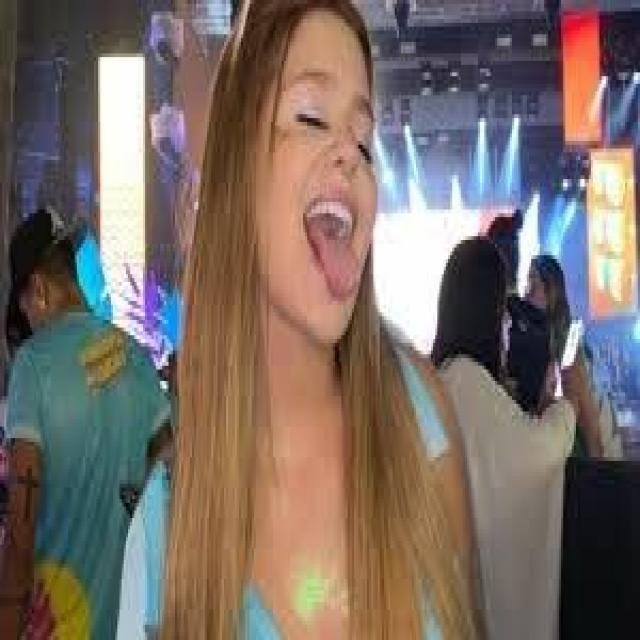person: (149, 8, 463, 636), (0, 172, 175, 636), (437, 217, 544, 594), (524, 244, 618, 484)
